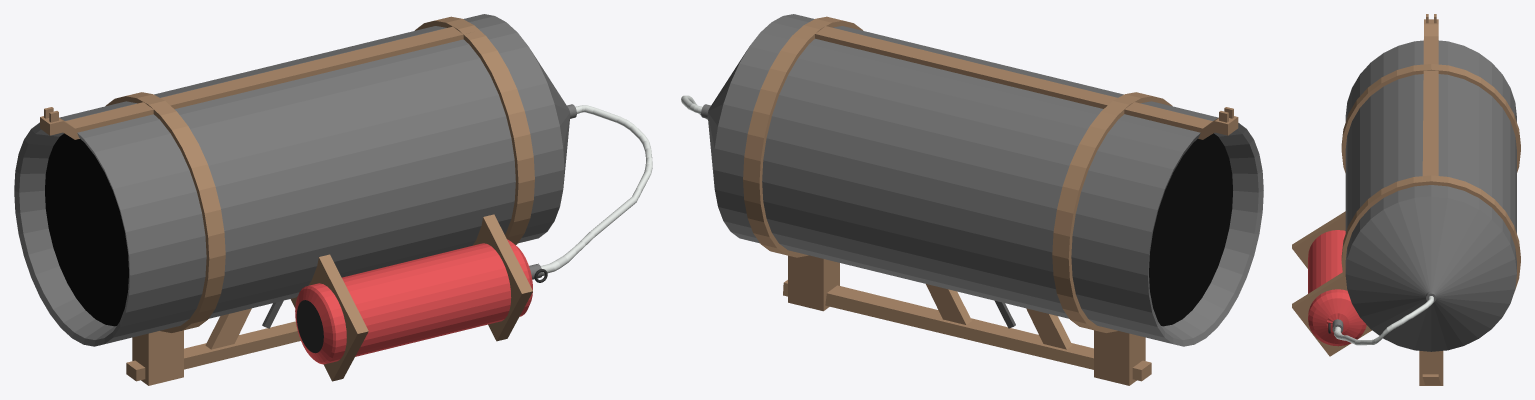
The model's file is BasketBallLuncher.fbx.
The picture shows the model from 3 angles, left to right: view 1: azimuth 30°, elevation 25°; view 2: azimuth 150°, elevation 25°; view 3: azimuth 270°, elevation 25°; orthographic projection. The views are drawn at different scales.
Visible parts, largest first — view 1: Cylinder; view 2: Cylinder; view 3: Cylinder.
Boxes of the visible parts, x1,y1,x2,y2 form: Cylinder: (14,14,652,385); Cylinder: (681,14,1263,385); Cylinder: (1292,14,1520,385).
Size of the model in its own units: 573 by 277 by 267.
